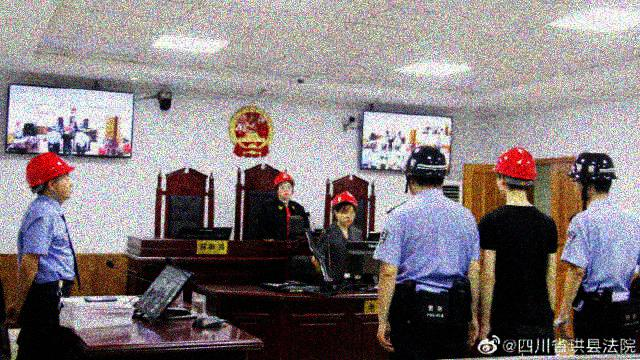helmet: (24, 150, 76, 200), (566, 151, 619, 200), (492, 147, 538, 198), (403, 145, 448, 193), (330, 190, 358, 226), (273, 170, 296, 202)
